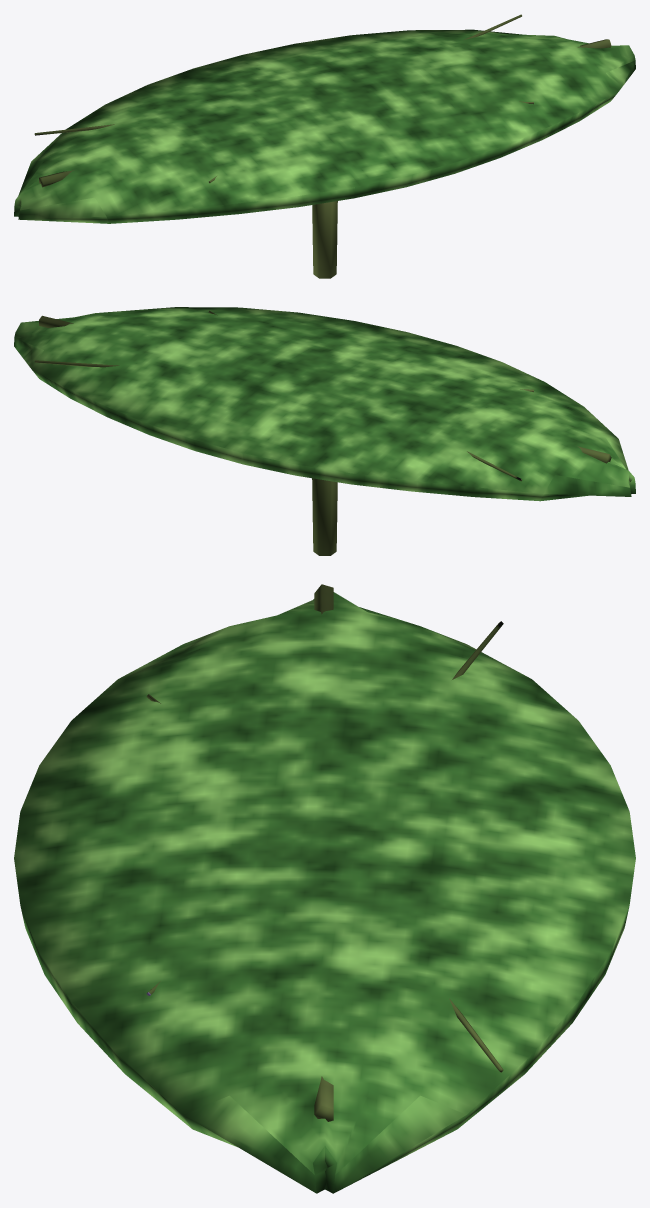
The model's file is VineLeaf.fbx.
3 views of the same model, one above another, from view 1: azimuth 30°, elevation 25°; view 2: azimuth 150°, elevation 25°; view 3: azimuth 270°, elevation 25° (orthographic). The views are drawn at different scales.
Parts seen in each view (by area): view 1: VineLeaf; view 2: VineLeaf; view 3: VineLeaf.
Boxes of the visible parts, x1,y1,x2,y2 form: VineLeaf: (14,14,635,278); VineLeaf: (14,307,635,555); VineLeaf: (14,584,635,1193).
Size of the model in its own units: 1.52 by 0.415 by 0.7056.
